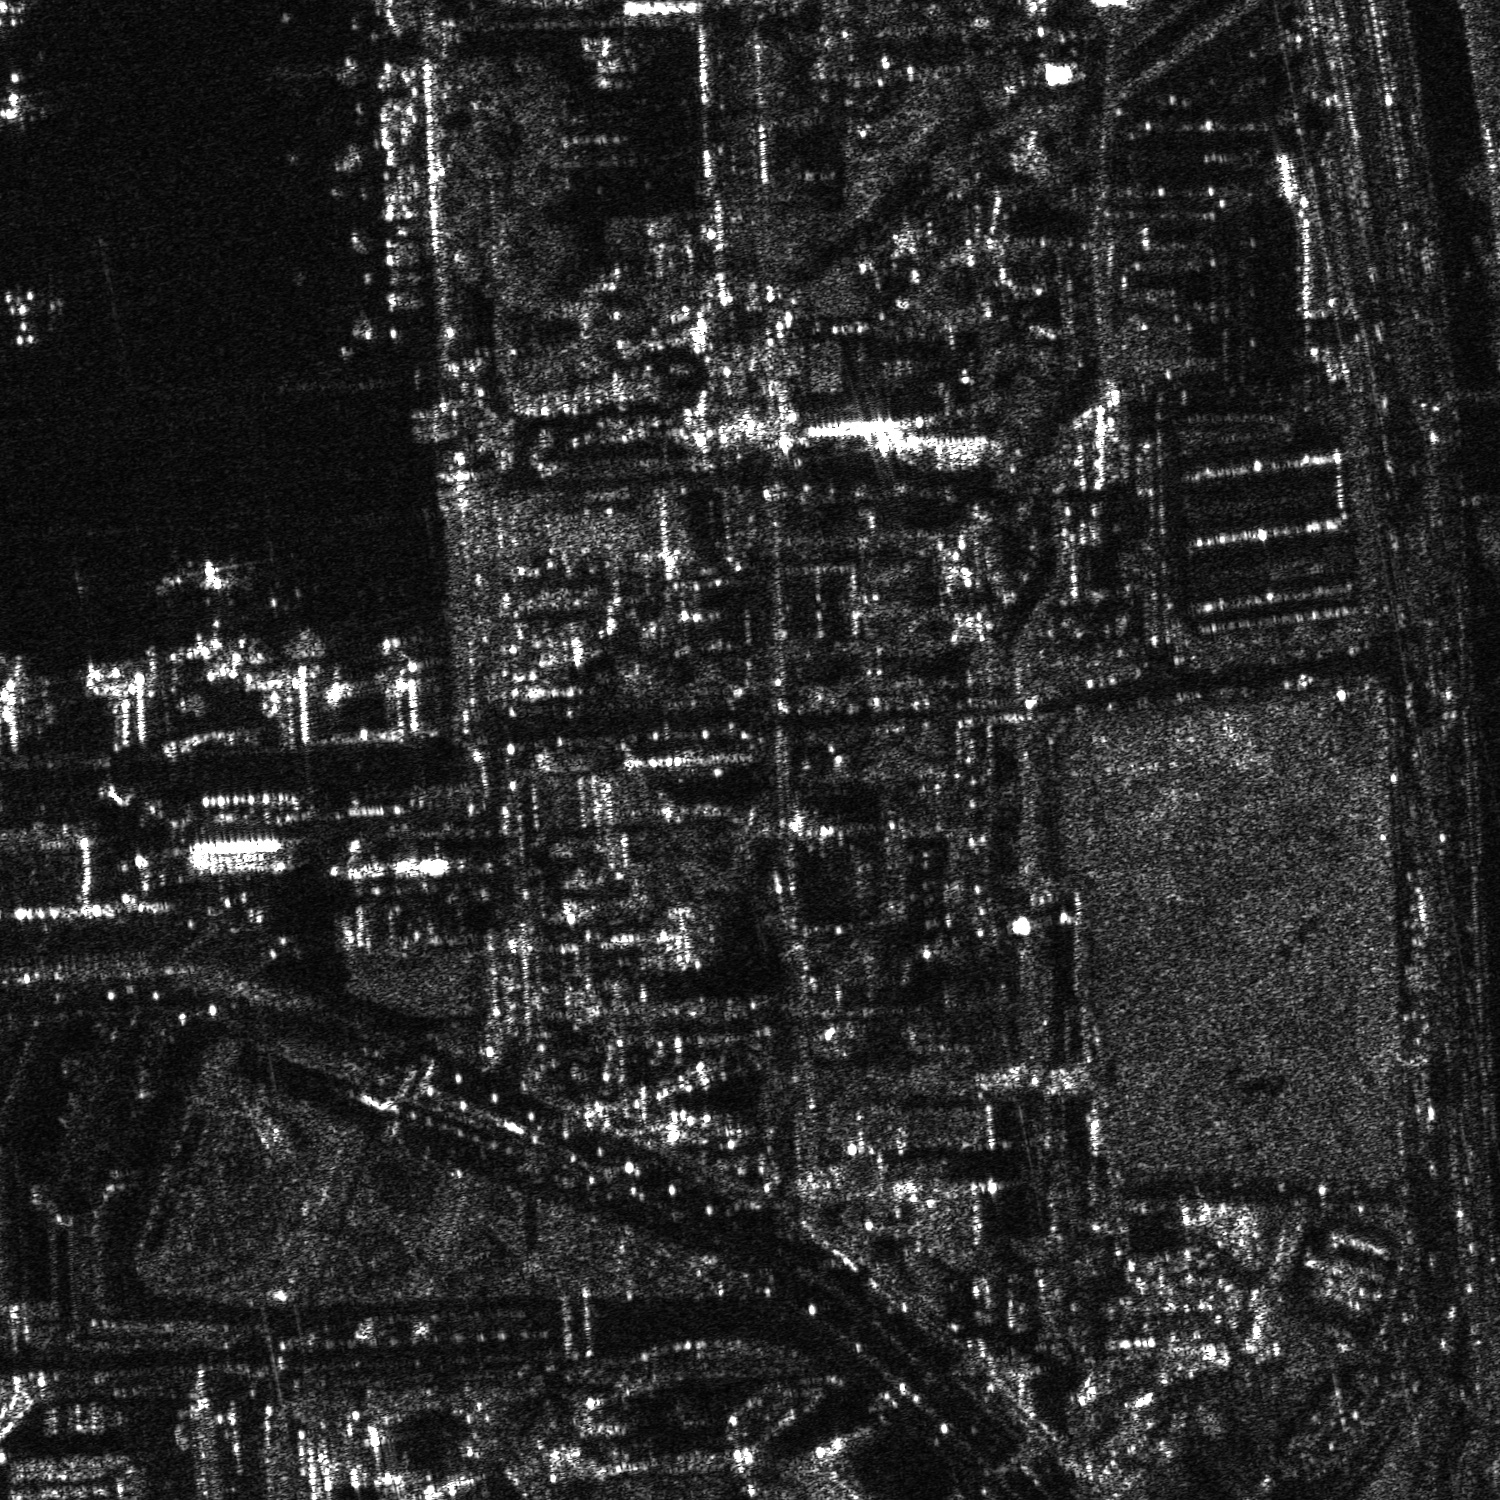A220: (1, 279, 52, 353)
Boeing787: (163, 545, 246, 610)
